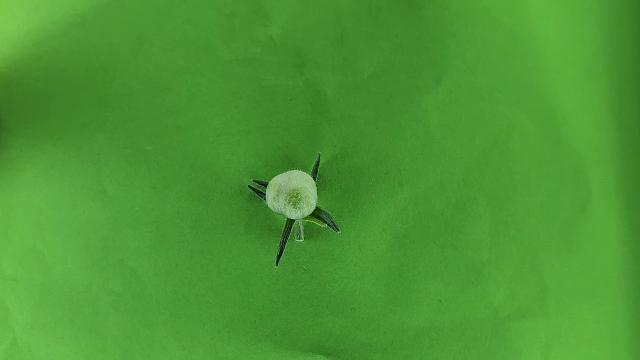Fruit Maturation: (265, 170, 318, 219)
